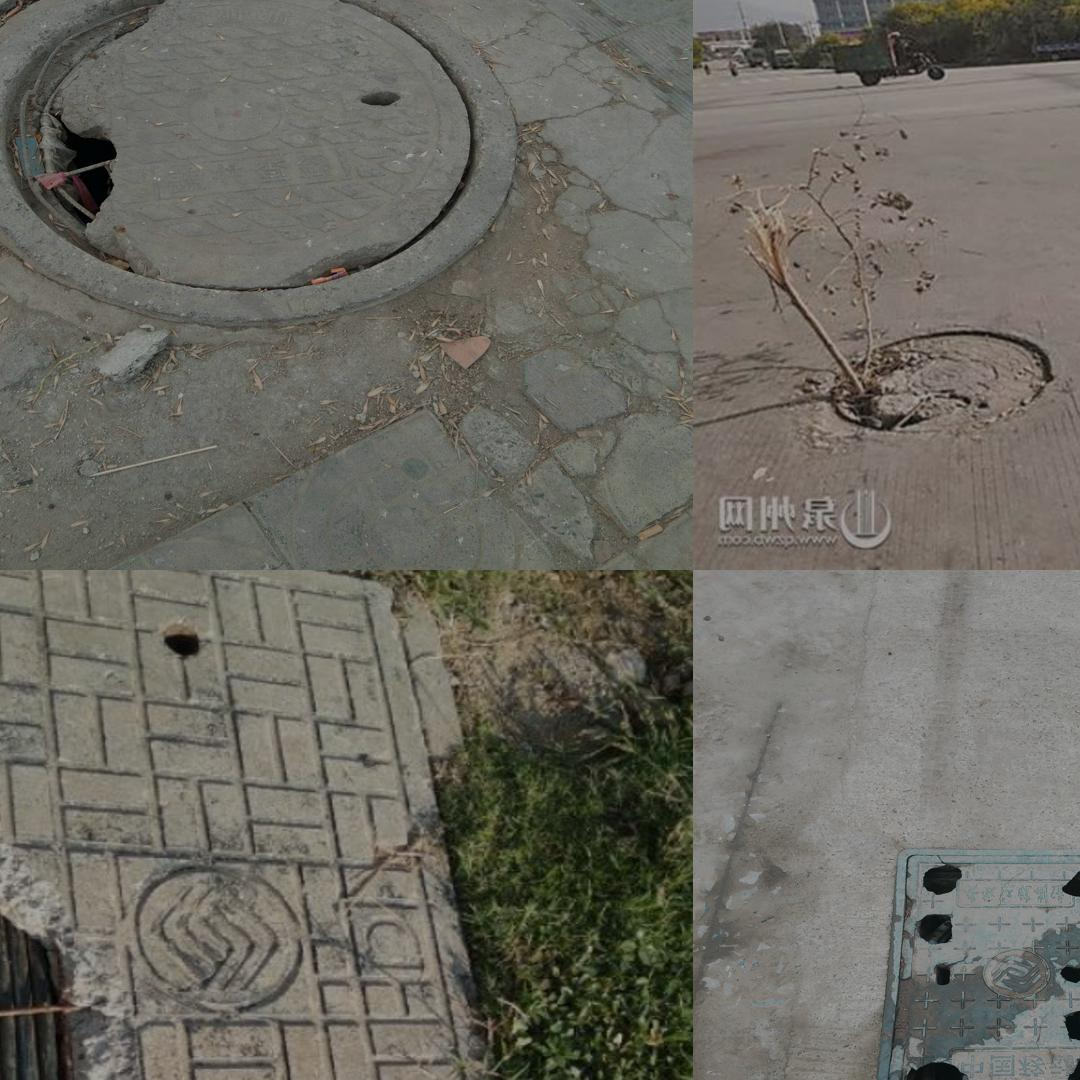broke: (0, 576, 608, 1080), (0, 0, 520, 332), (870, 849, 1080, 1080), (804, 303, 1078, 462)
